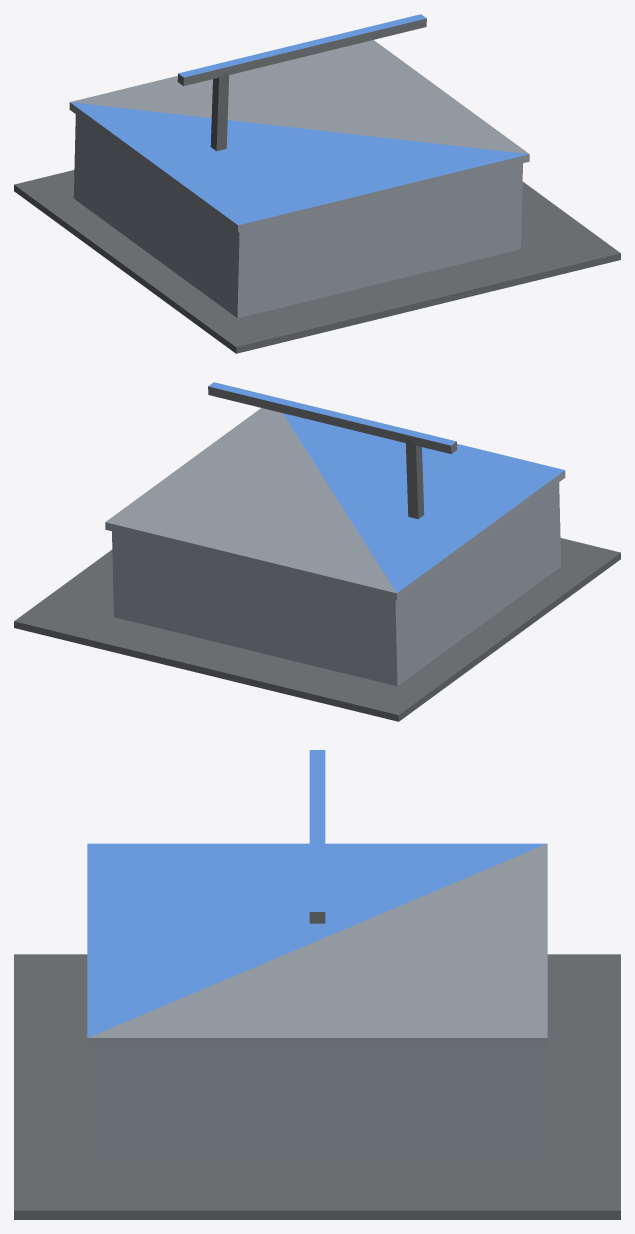
The model's file is veyran_construction_center_damaged.glb.
The picture shows the model from 3 angles, top to bottom: view 1: azimuth 30°, elevation 25°; view 2: azimuth 150°, elevation 25°; view 3: azimuth 270°, elevation 25°; orthographic projection. The views are drawn at different scales.
Parts seen in each view (by area): view 1: hull, crane; view 2: hull, crane; view 3: hull, crane.
Part boxes in pixels (left/top/right/bottom): hull: left=14, top=40, right=620, bottom=353; crane: left=177, top=14, right=426, bottom=151; hull: left=14, top=408, right=620, bottom=721; crane: left=208, top=382, right=457, bottom=519; hull: left=14, top=843, right=620, bottom=1219; crane: left=309, top=750, right=325, bottom=923.
Bounding box in the file's own units: 15.2 × 6.92 × 15.2.
